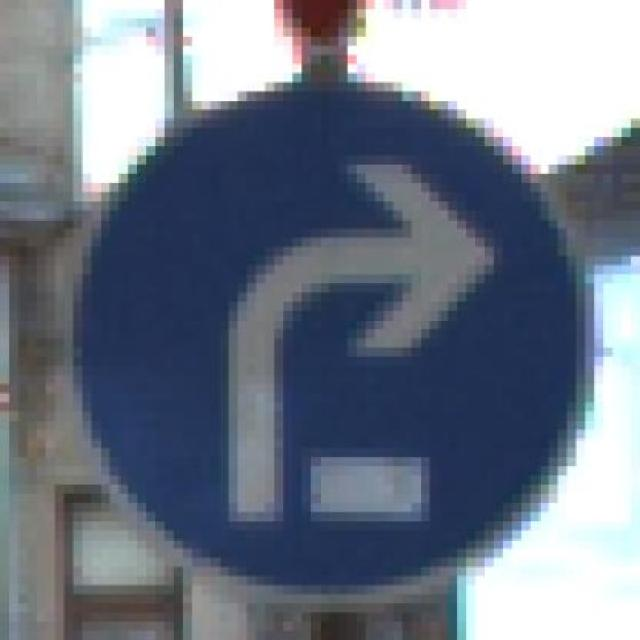Turn right ahead: (64, 64, 604, 613)
